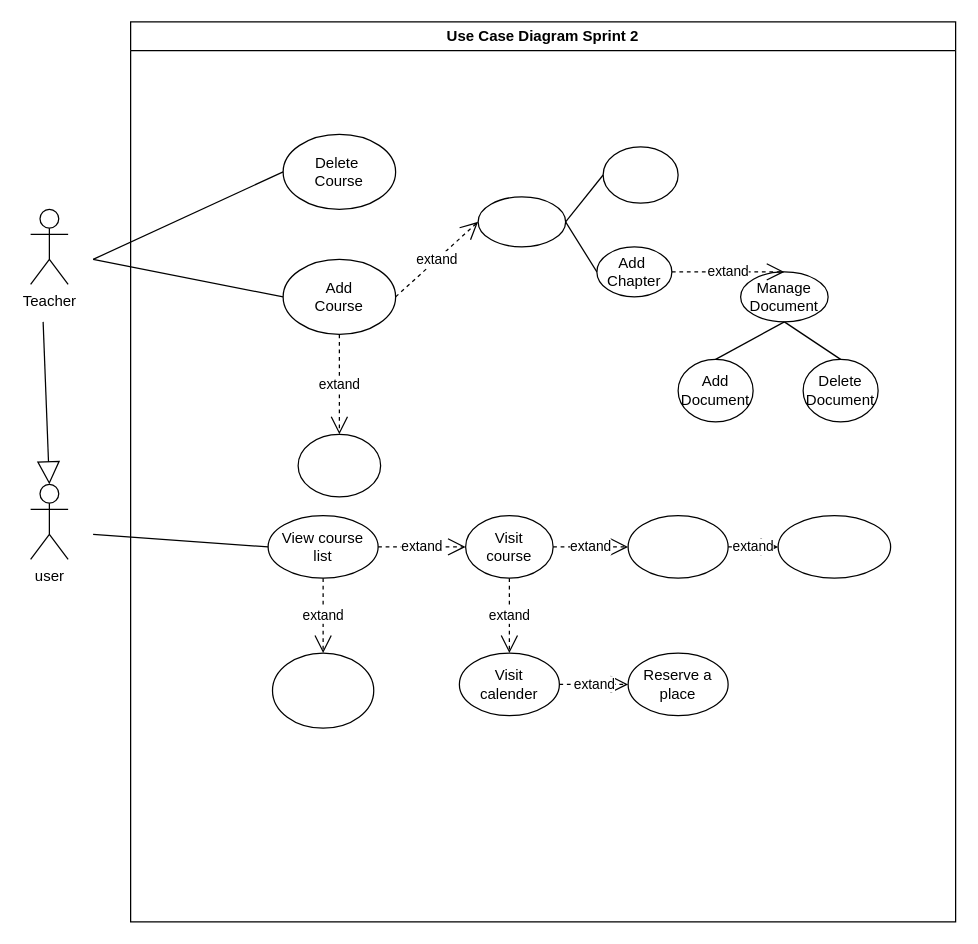
The diagram is 978 pixels wide and 944 high, and some of its shapes have lost their labels. The centre of each missing label's shape, as x and y in pixels:
Add Event: pixel 339 465
Delete Chapter: pixel 640 174
Filter courses: pixel 322 690
Manage chapter: pixel 521 221
View Document: pixel 834 546
Visit Chapter: pixel 677 546
